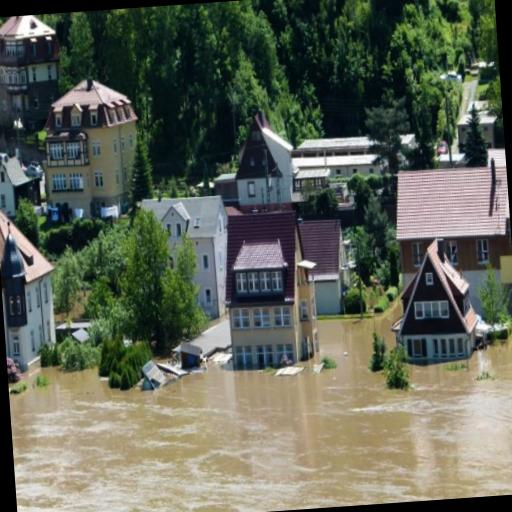flood: (9, 301, 512, 512)
house: (37, 70, 147, 228), (220, 205, 310, 376), (389, 160, 512, 260), (394, 239, 488, 369), (0, 191, 60, 376), (168, 194, 237, 323), (0, 13, 69, 139), (228, 110, 292, 210), (292, 128, 388, 190), (303, 216, 354, 312), (458, 112, 500, 148)
